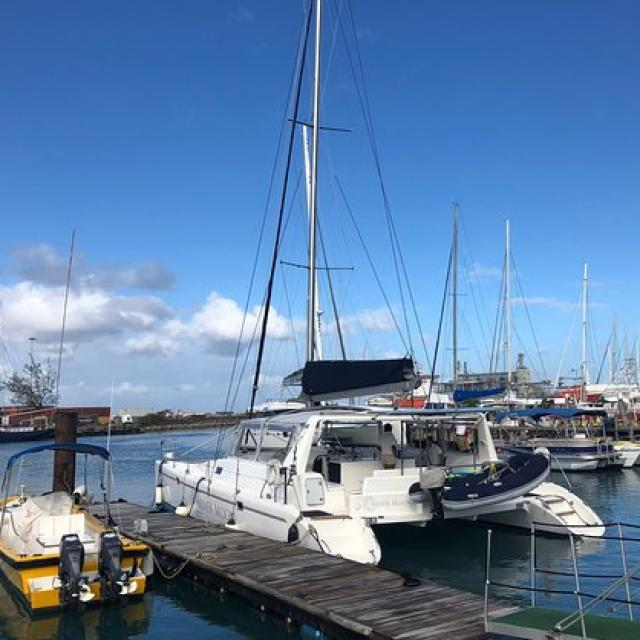houseboat: (146, 369, 557, 561)
